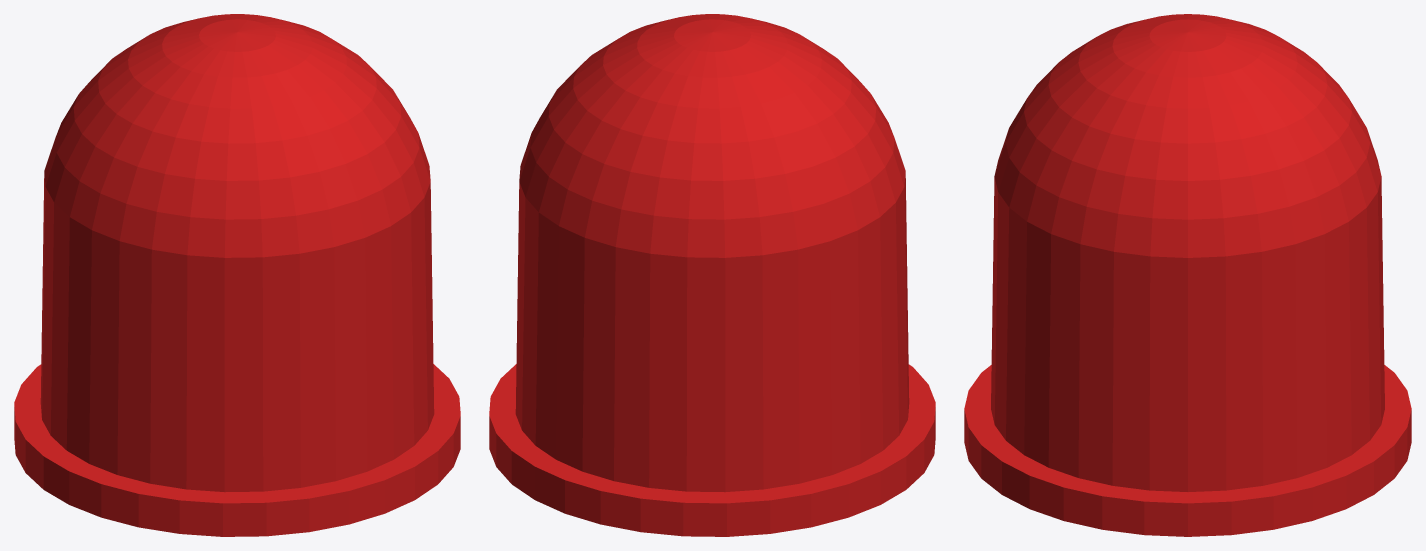
Rendered from 3D_LED2.fbx.
The picture shows the model from 3 angles, left to right: view 1: azimuth 30°, elevation 25°; view 2: azimuth 150°, elevation 25°; view 3: azimuth 270°, elevation 25°; orthographic projection.
Visible parts, largest first — view 1: to_unity_LED_origin2; view 2: to_unity_LED_origin2; view 3: to_unity_LED_origin2.
Boxes of the visible parts, left/top/right/bottom form: to_unity_LED_origin2: left=14, top=14, right=460, bottom=536; to_unity_LED_origin2: left=489, top=14, right=935, bottom=536; to_unity_LED_origin2: left=964, top=14, right=1411, bottom=536.
Size of the model in its own units: 7.01 by 7.09 by 7.01.
